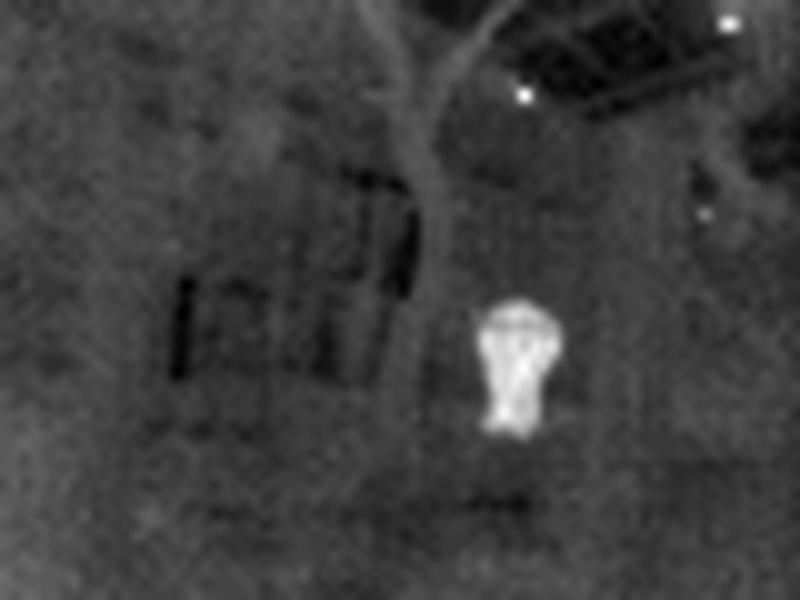elephant: (472, 294, 557, 442)
